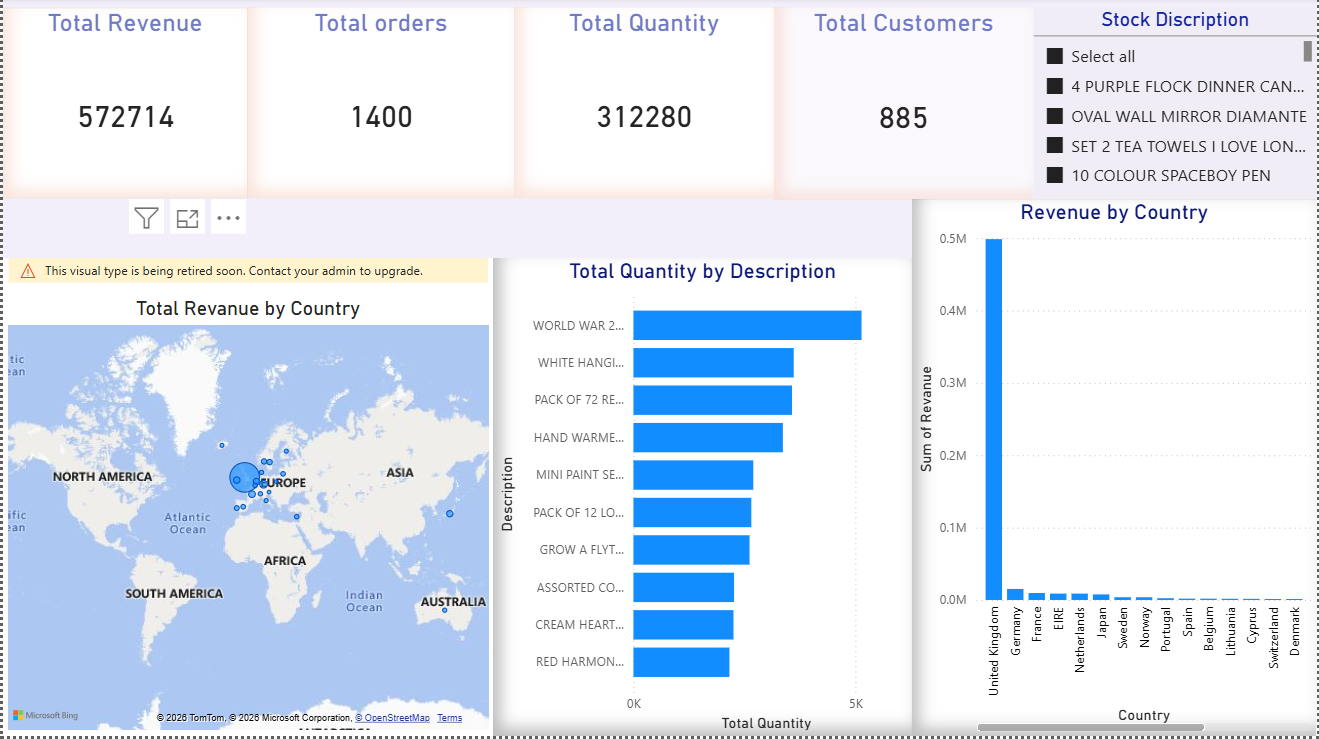

This screenshot's page, from the dashboard's own definition file:
{"tool":"powerbi","page":{"name":"Page 1","canvas":[1280,720],"ordinal":0},"visuals":[{"type":"kpi","title":"Total Revenue ","fields":{"Indicator":["finance_db transections.Total Revanue"],"TrendLine":["finance_db transections.InvoiceDate.Variation.Date Hierarchy.Year"]},"box":[0,10.2,238.2,185.6],"z":0},{"type":"kpi","title":"Total orders","fields":{"Indicator":["finance_db transections.Total orders"],"TrendLine":["finance_db transections.InvoiceDate.Variation.Date Hierarchy.Year"]},"box":[238.2,10.2,260.1,185.6],"z":1000},{"type":"kpi","title":"Total Quantity","fields":{"Indicator":["finance_db transections.Total Quantity"],"TrendLine":["finance_db transections.InvoiceDate.Variation.Date Hierarchy.Year"]},"box":[498.4,10.2,252.8,185.6],"z":2000},{"type":"kpi","title":"Total Customers","fields":{"Indicator":["finance_db transections.Total Customers"],"TrendLine":["finance_db transections.InvoiceDate.Variation.Date Hierarchy.Year"]},"box":[751.2,10.2,252.8,187.1],"z":3000},{"type":"map","fields":{"Category":["finance_db transections.Country"],"Size":["finance_db transections.Total Revanue"]},"box":[0,255,477.5,465],"z":4000},{"type":"barChart","fields":{"Category":["finance_db transections.Description"],"Y":["finance_db transections.Total Quantity"]},"box":[477.5,255,407.5,465],"z":5000},{"type":"clusteredColumnChart","title":"Revenue by Country","fields":{"Category":["finance_db transections.Country"],"Y":["Sum(finance_db transections.Revanue)"]},"box":[885.7,197.1,394.3,522.9],"z":6000},{"type":"slicer","title":"Stock Discription","fields":{"Values":["finance_db transections.Description"]},"box":[1004,10.2,276.2,187.1],"z":6001}]}

Visuals, with their boxes in screenshot pixels (x1, y1, x2, y2), scaled from the page's 1280x720 canvas onto the 1319x739 screenshot:
"Total Revenue " kpi: <box>0,10,245,201</box>
"Total orders" kpi: <box>245,10,513,201</box>
"Total Quantity" kpi: <box>514,10,774,201</box>
"Total Customers" kpi: <box>774,10,1035,203</box>
map - finance_db transections.Country x finance_db transections.Total Revanue: <box>0,262,492,738</box>
barChart - finance_db transections.Description x finance_db transections.Total Quantity: <box>492,262,912,738</box>
"Revenue by Country" clusteredColumnChart: <box>913,202,1318,738</box>
"Stock Discription" slicer: <box>1035,10,1318,203</box>
